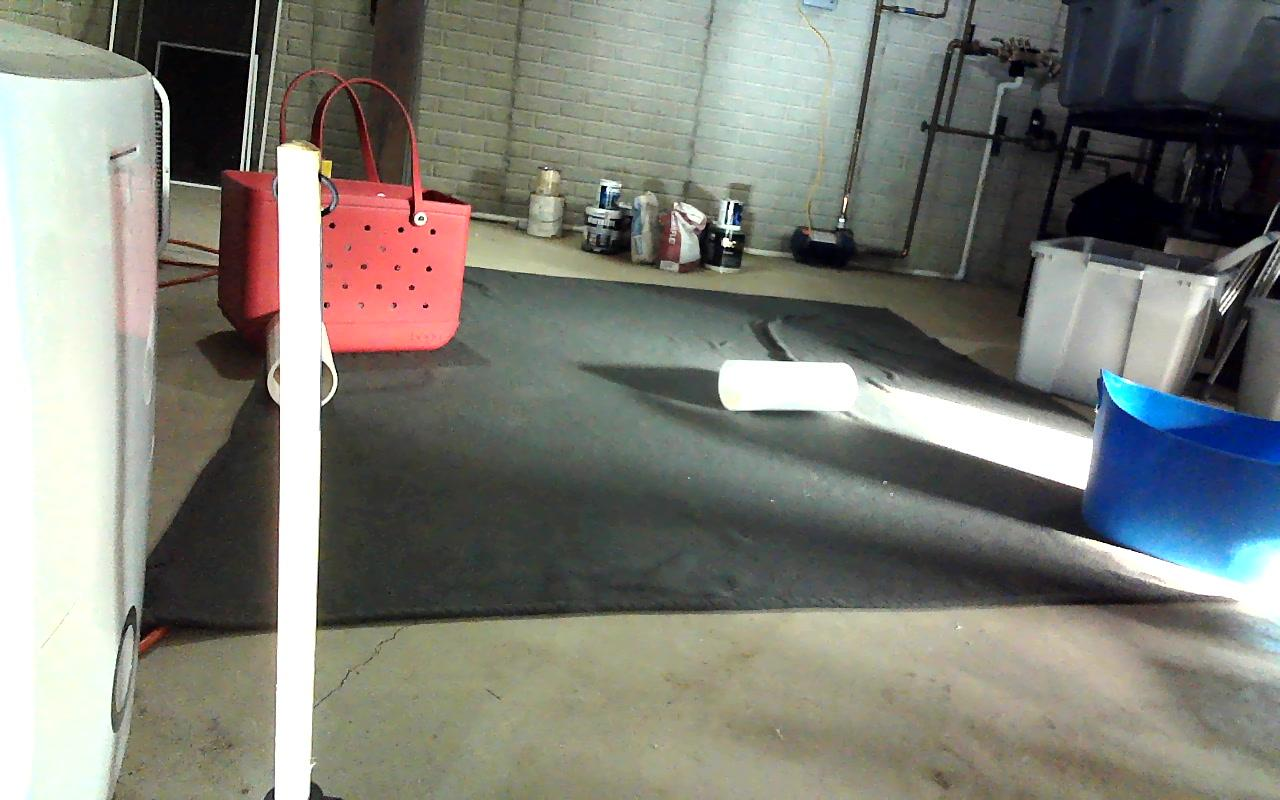coral: (718, 357, 855, 411), (267, 310, 336, 407)
